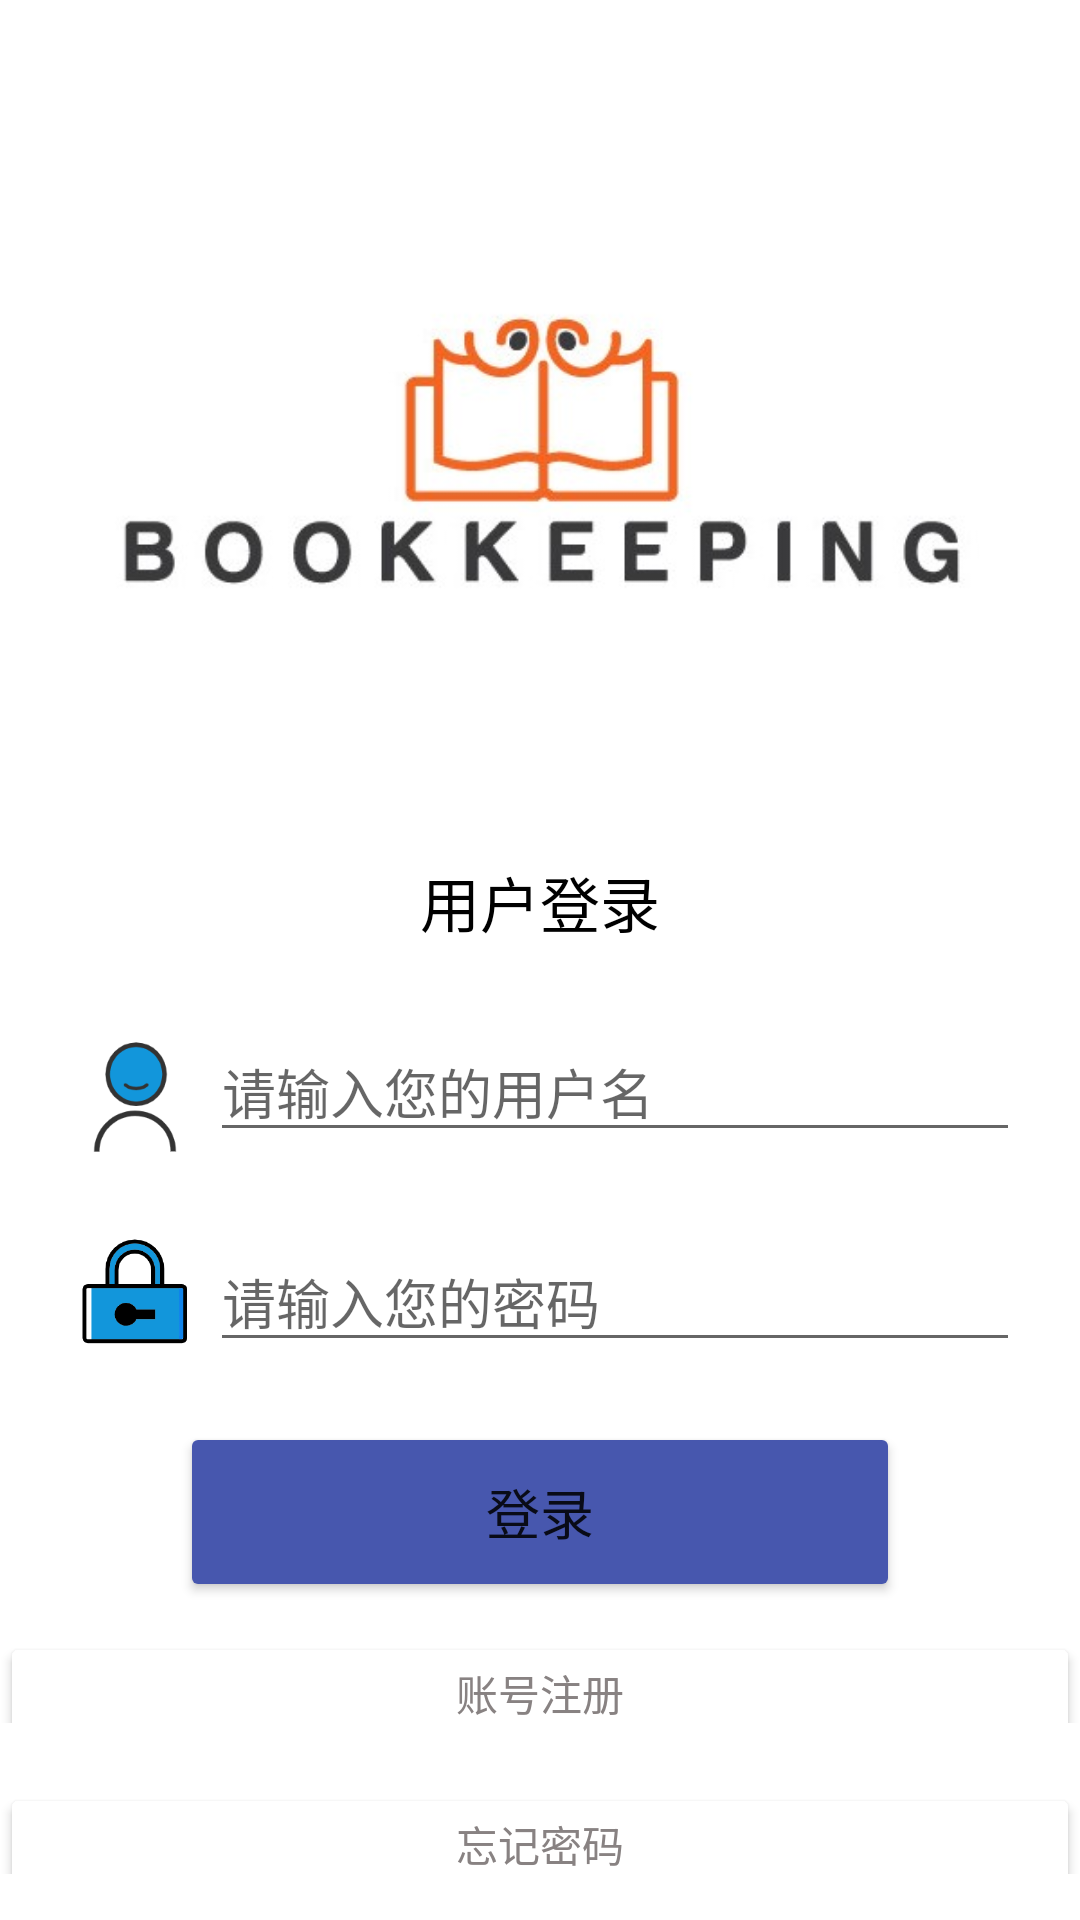

Point at icon controls on the screen. Image size 1080px×1920px, points as (x,y).
password: (134,1291)
user: (135,1097)
